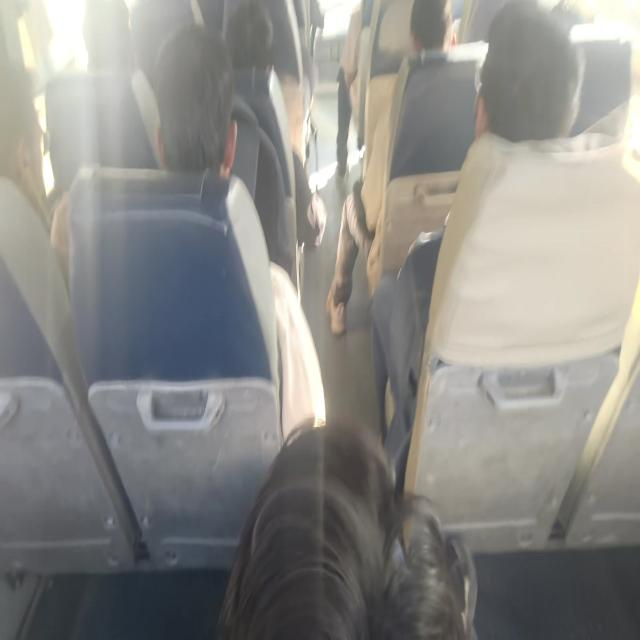person: (244, 413, 463, 640), (476, 9, 566, 166), (158, 35, 237, 194), (0, 68, 54, 204), (215, 0, 275, 93), (79, 0, 135, 84), (401, 0, 462, 59), (538, 0, 596, 34)
